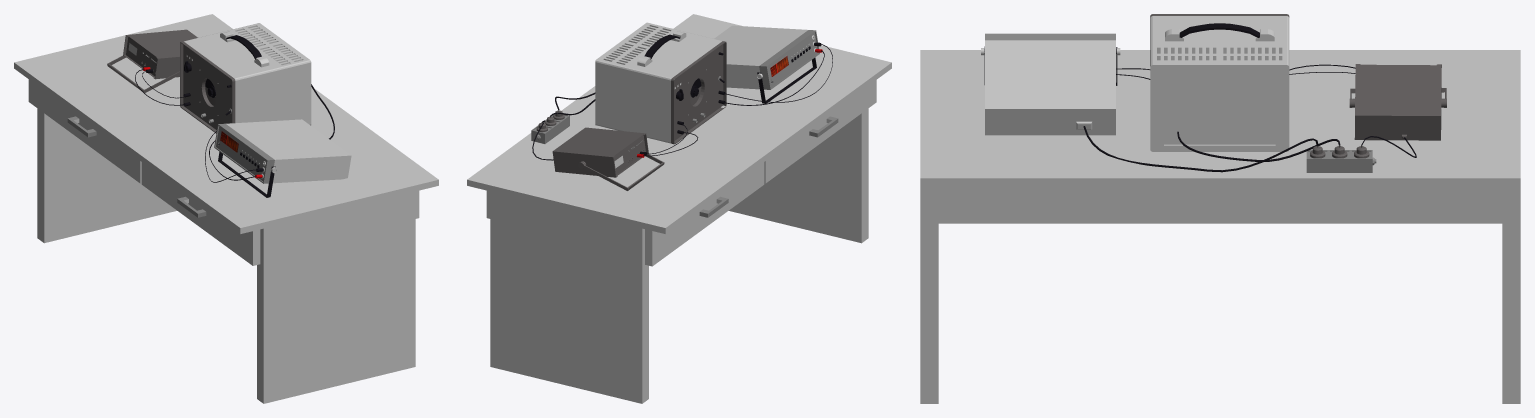
Rendered from installation.fbx.
The picture shows the model from 3 angles, left to right: view 1: azimuth 30°, elevation 25°; view 2: azimuth 150°, elevation 25°; view 3: azimuth 270°, elevation 25°; orthographic projection. The views are drawn at different scales.
Visible parts, largest first — view 1: Plane, Cube, Cube.004, Cube.006; view 2: Plane, Cube, Cube.004, Cube.006, Cube.011, Cylinder.013; view 3: Plane, Cube, Cube.004, Cube.006, Cube.011, BezierCurve.004, Plane.001.
Boxes of the visible parts, x1=… form: Plane: x1=14, y1=14, x2=438, y2=403; Cube: x1=180, y1=23, x2=311, y2=133; Cube.004: x1=214, y1=119, x2=351, y2=183; Cube.006: x1=123, y1=29, x2=197, y2=79; Plane: x1=467, y1=14, x2=891, y2=403; Cube: x1=595, y1=22, x2=726, y2=144; Cube.004: x1=714, y1=25, x2=819, y2=89; Cube.006: x1=552, y1=127, x2=648, y2=177; Cube.011: x1=531, y1=114, x2=569, y2=143; Cylinder.013: x1=578, y1=154, x2=664, y2=190; Plane: x1=920, y1=50, x2=1520, y2=403; Cube: x1=1150, y1=14, x2=1289, y2=151; Cube.004: x1=981, y1=33, x2=1120, y2=135; Cube.006: x1=1354, y1=64, x2=1441, y2=140; Cube.011: x1=1306, y1=150, x2=1376, y2=172; BezierCurve.004: x1=1083, y1=126, x2=1318, y2=172; Plane.001: x1=1179, y1=23, x2=1259, y2=37.
Bounding box in the file's own units: 237 × 293 × 468.
